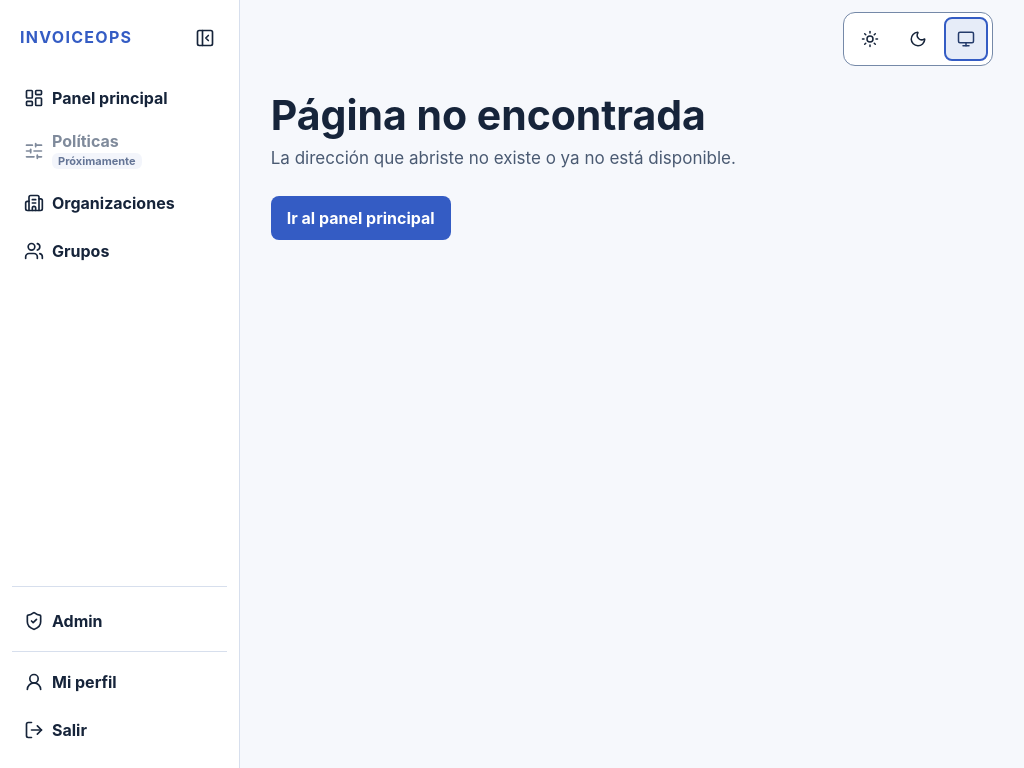
Test: deep links › answers an unknown path with a not-found screen that links back to the panel
Expected: the heading "Página no encontrada" is shown, [271, 90, 706, 140]
Click the link "Ir al panel principal" at (361, 218), box [271, 196, 451, 240]
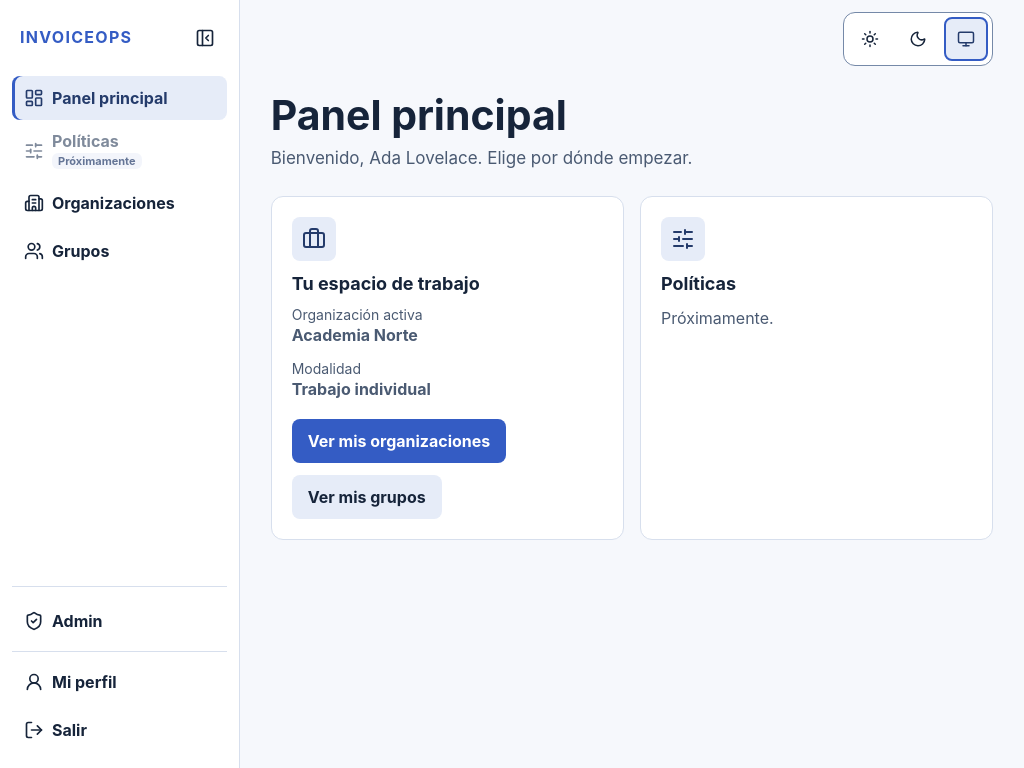
Result: the heading "Panel principal" is shown at [271, 90, 567, 140]
